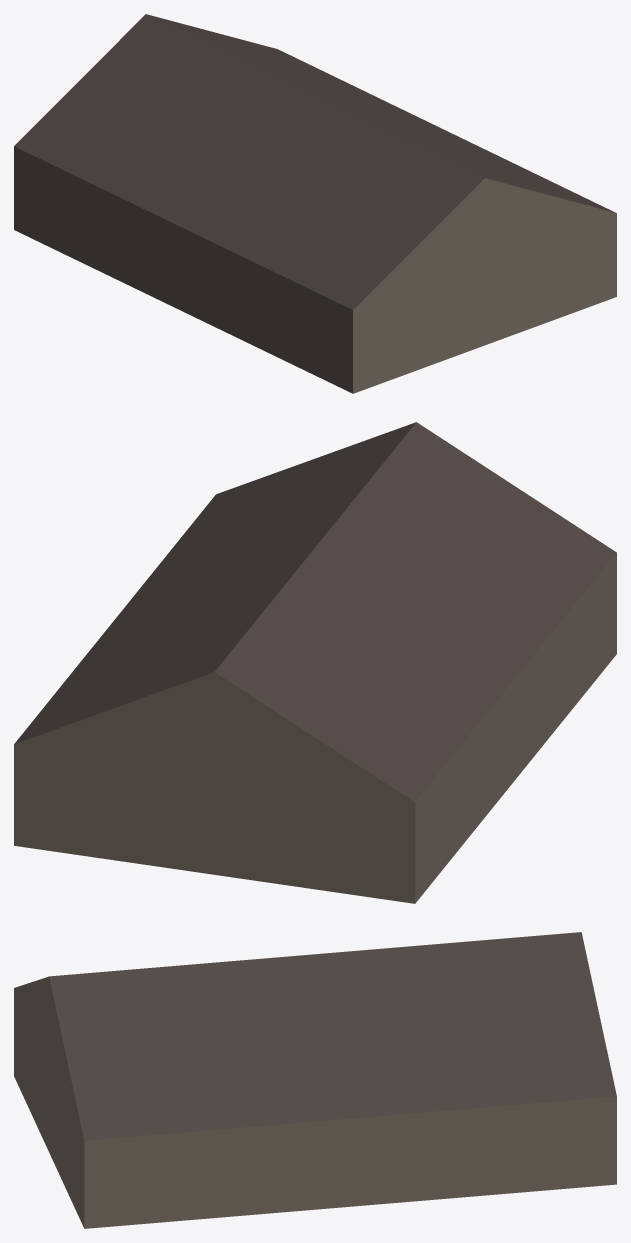
3 renders of one model, top to bottom at view 1: azimuth 30°, elevation 25°; view 2: azimuth 150°, elevation 25°; view 3: azimuth 270°, elevation 25°, orthographic. The views are drawn at different scales.
Parts seen in each view (by area): view 1: HP-w165791765; view 2: HP-w165791765; view 3: HP-w165791765.
Boxes of the visible parts, <box> form: HP-w165791765: <box>14,14,616,393</box>; HP-w165791765: <box>14,422,616,903</box>; HP-w165791765: <box>14,932,616,1228</box>.
Bounding box in the file's own units: 14.4 × 6 × 18.62.
